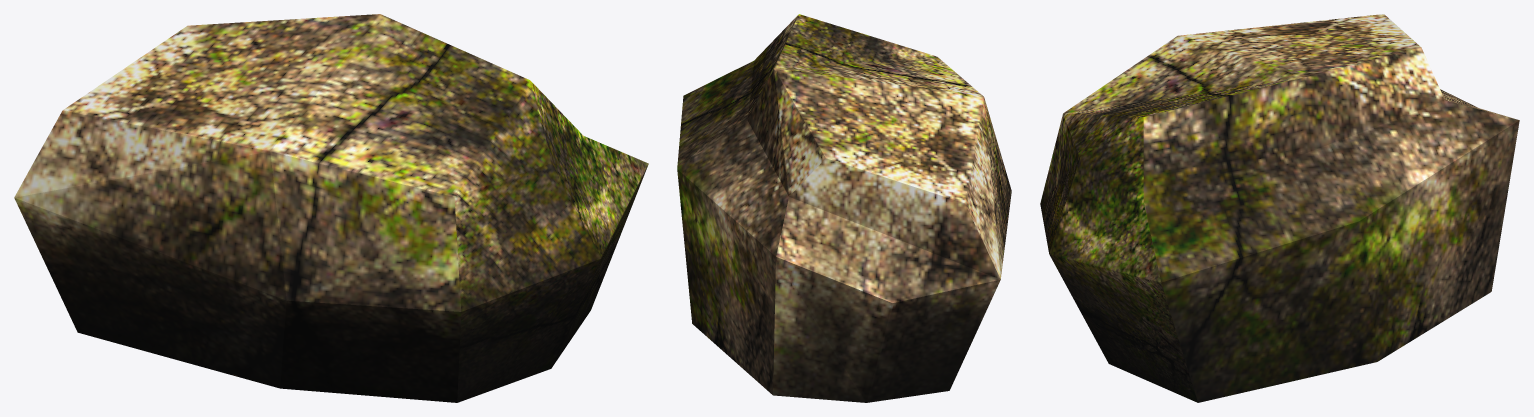
Rendered from rock_013.dae.
3 views of the same model, side by side, from view 1: azimuth 30°, elevation 25°; view 2: azimuth 150°, elevation 25°; view 3: azimuth 270°, elevation 25° (orthographic). The views are drawn at different scales.
Visible parts, largest first — view 1: Mesh_Object; view 2: Mesh_Object; view 3: Mesh_Object.
Part boxes in pixels (x1,y1,x2,y2): Mesh_Object: (14,14,648,402); Mesh_Object: (677,14,1011,402); Mesh_Object: (1040,14,1519,402).
Bounding box in the file's own units: 2.45 × 1.34 × 2.24.
